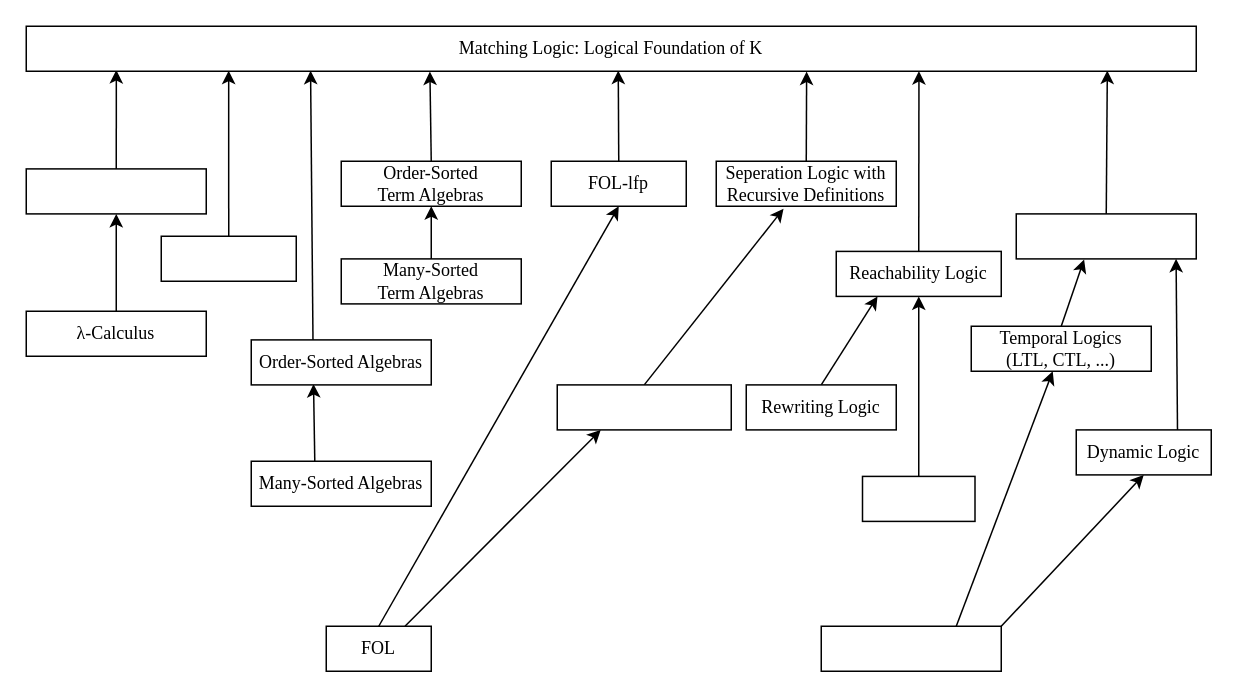
This 1238x698 diagram has some shape labels left out. The centre of each missing label's shape, as x and y in pixels:
Hoare Logic: the point at 918,498
Modal μ-Calculus: the point at 1105,235
Normal Modal Logic: the point at 910,648
Separation Logic: the point at 643,406
Type Systems: the point at 115,190
π -Calculus: the point at 228,258
